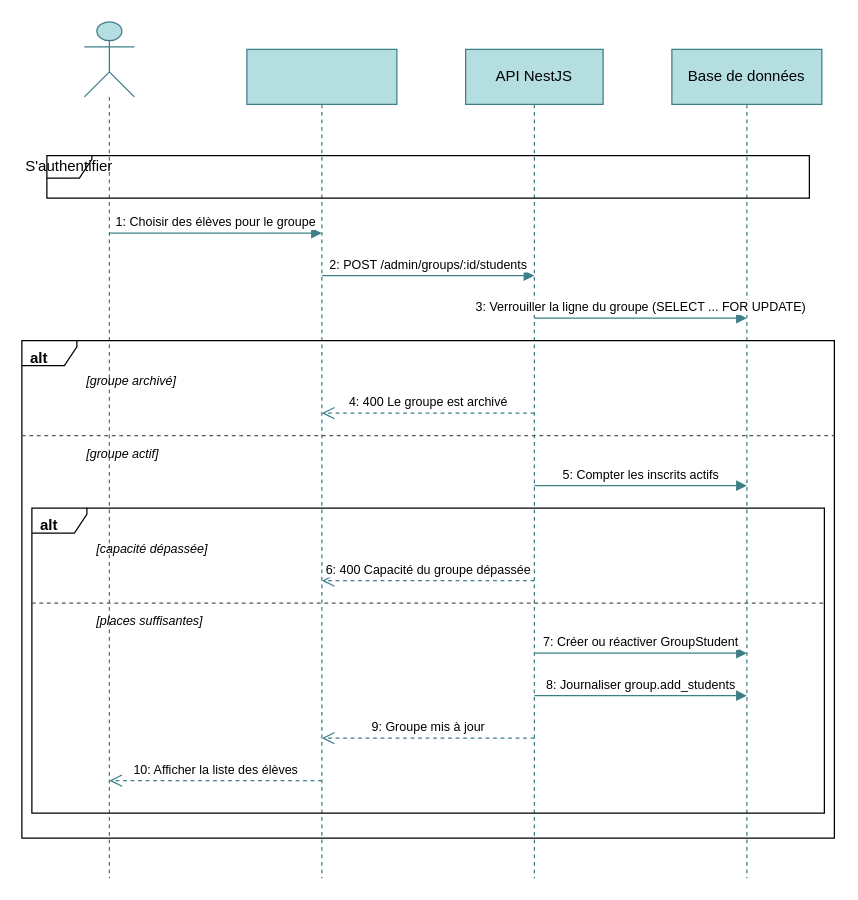
The diagram is 858 pixels wide and 900 high, and some of its shapes have lost their labels. Here are the shapes that lost their labels. From the top down, the box of each, then its label:
(83, 21, 134, 878): Administrateur
(246, 48, 397, 878): Interface React
